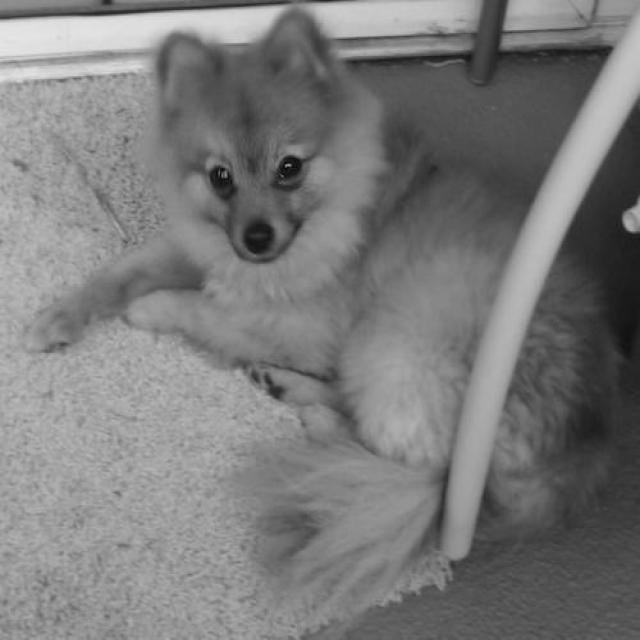laying down: (20, 19, 632, 615)
